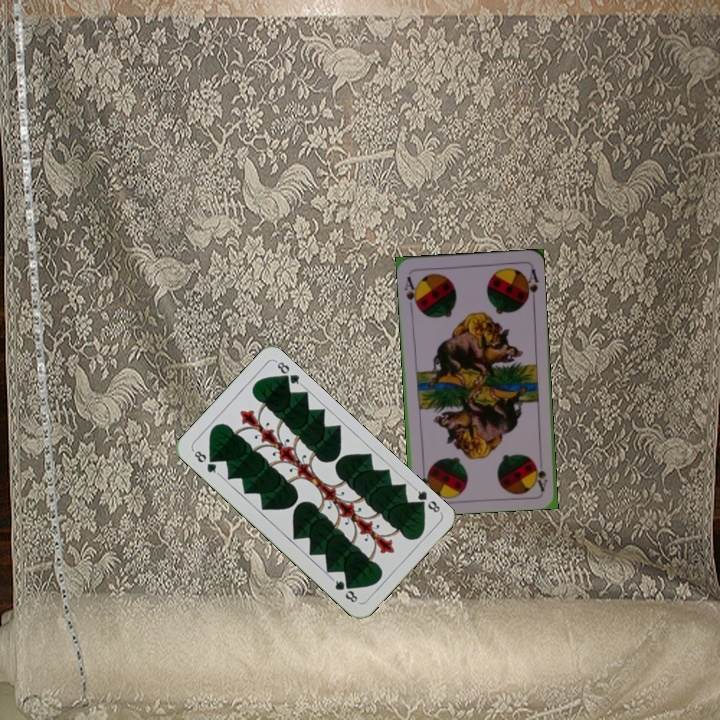G8: (189, 446, 222, 477), (411, 484, 444, 515)
SA: (401, 272, 421, 311), (531, 459, 550, 493)
